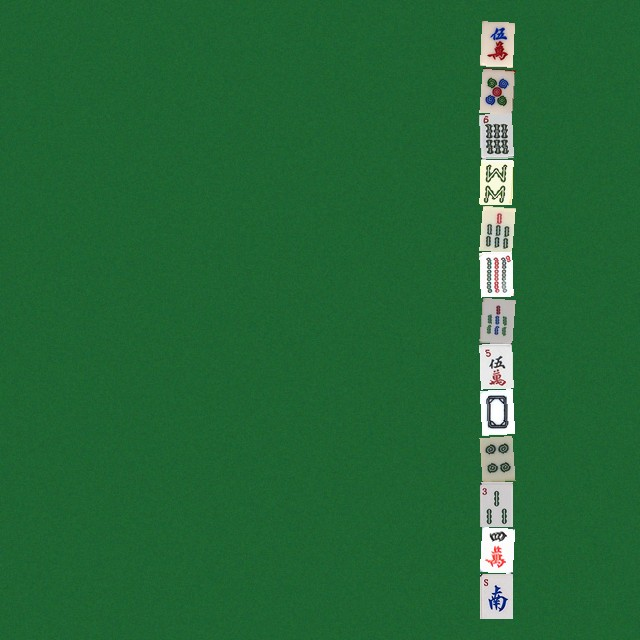tile: (479, 21, 512, 66), (479, 67, 512, 112), (479, 113, 512, 158), (479, 159, 512, 204), (479, 205, 512, 250), (479, 251, 512, 296), (479, 297, 512, 342), (479, 343, 512, 388), (479, 389, 512, 434), (479, 435, 512, 480), (479, 481, 512, 526), (479, 527, 512, 572), (479, 573, 512, 618)
